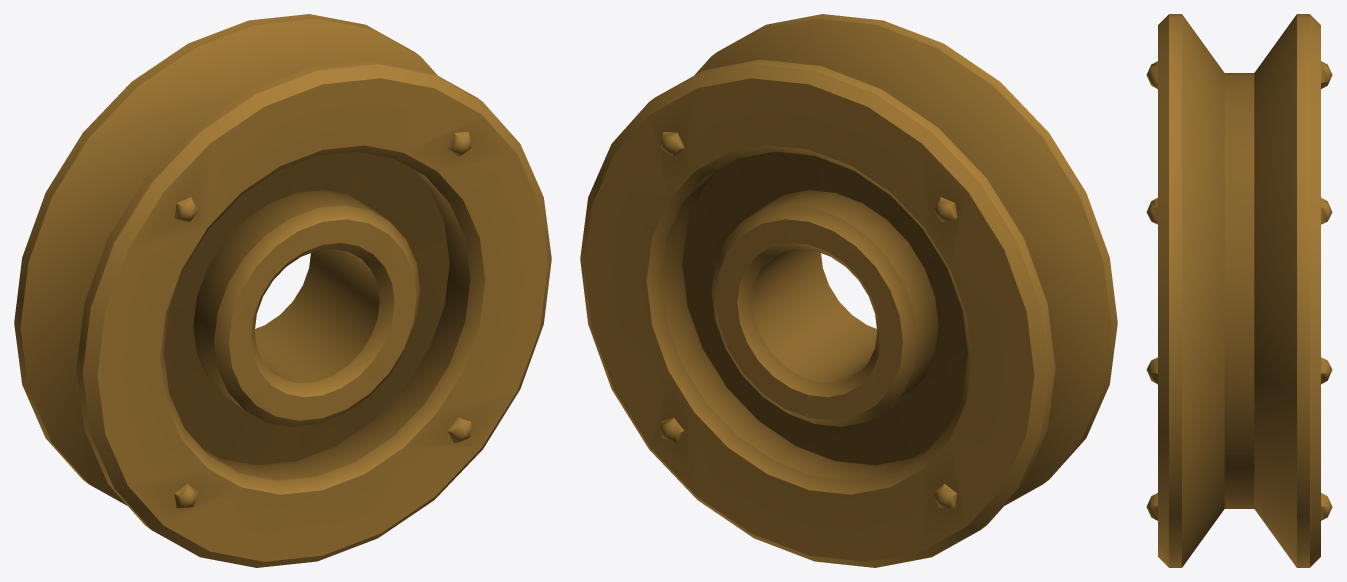
The model's file is pulley_standard.glb.
3 renders of one model, left to right at view 1: azimuth 30°, elevation 25°; view 2: azimuth 150°, elevation 25°; view 3: azimuth 270°, elevation 25°, orthographic. The views are drawn at different scales.
Parts seen in each view (by area): view 1: Pulley_Standard; view 2: Pulley_Standard; view 3: Pulley_Standard.
Part boxes in pixels (x1,y1,x2,y2): Pulley_Standard: (14, 14, 551, 567); Pulley_Standard: (580, 14, 1117, 567); Pulley_Standard: (1146, 14, 1332, 567).
Bounding box in the file's own units: 0.03 × 0.03 × 0.01.
